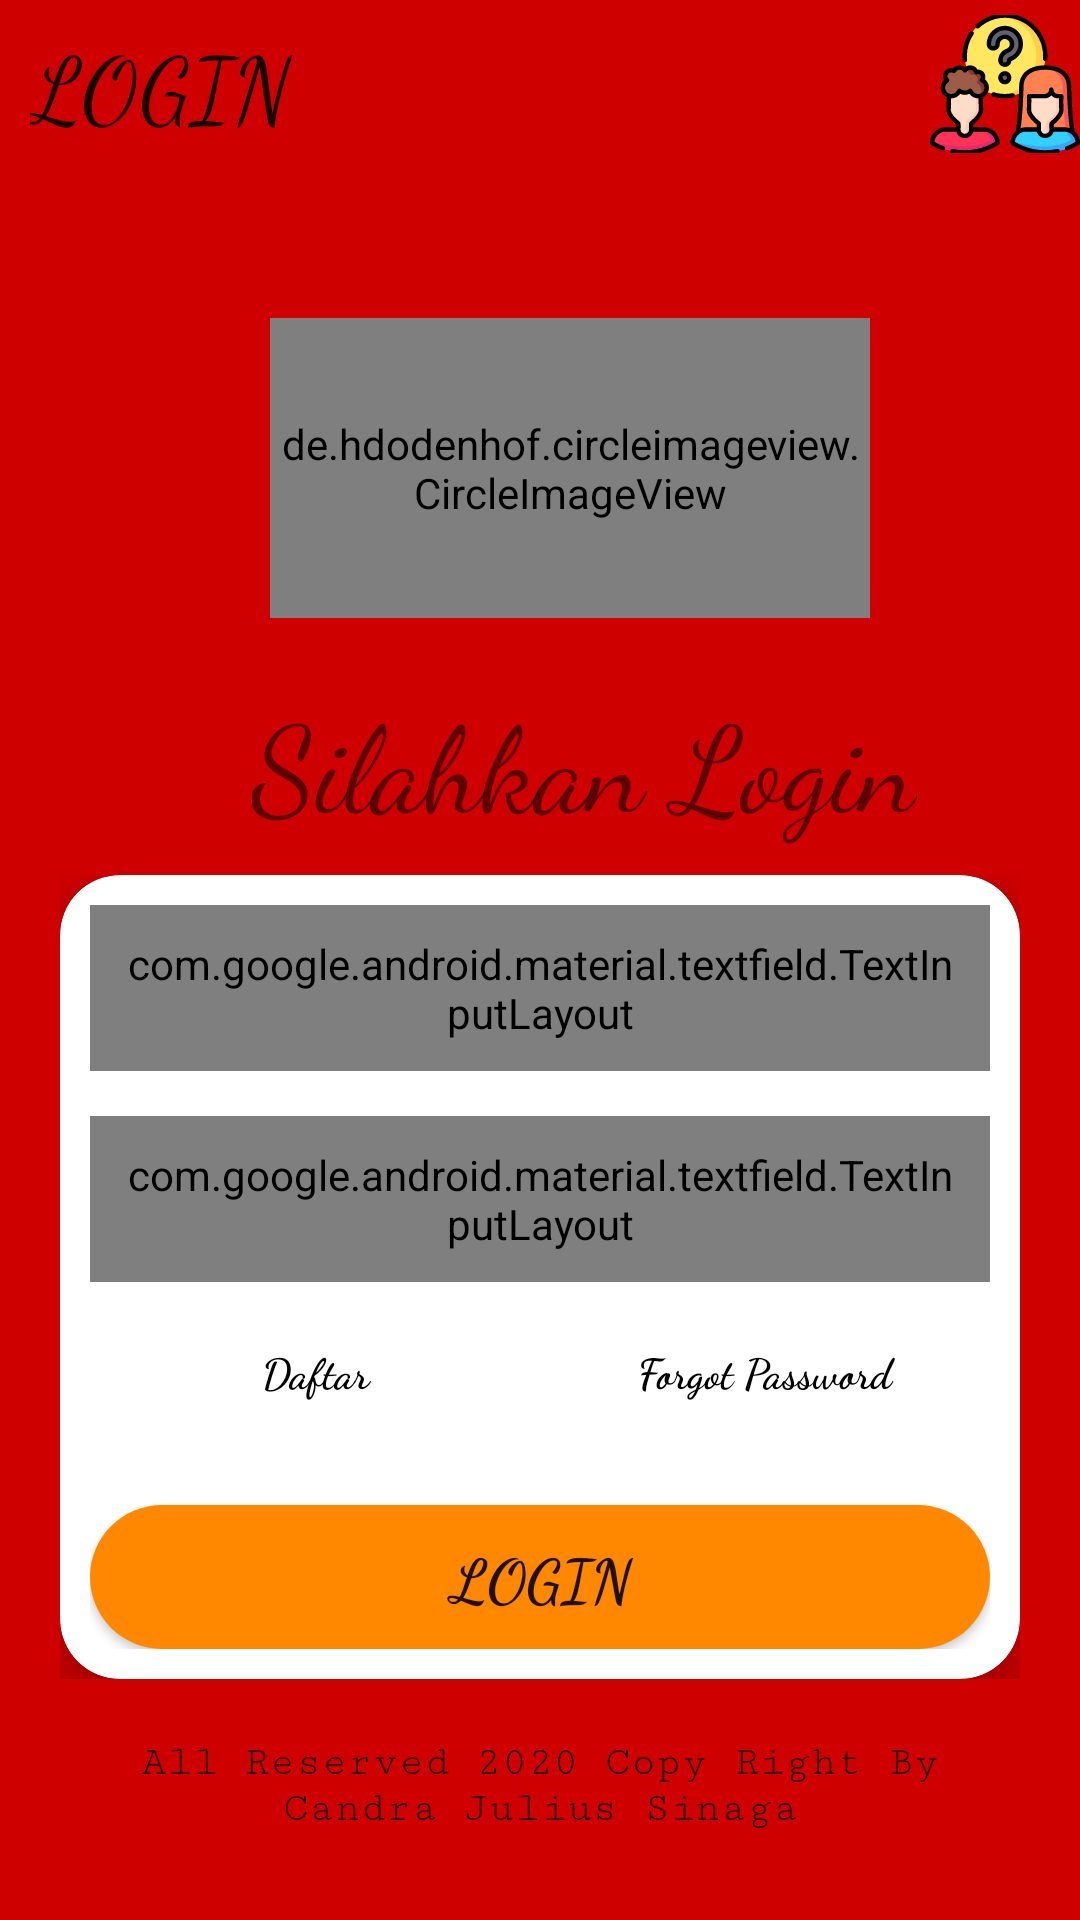

Where icons sit on this 1080*1920 app screen, as (x1, y1, x2, y2):
question: (930, 15, 1080, 153)
